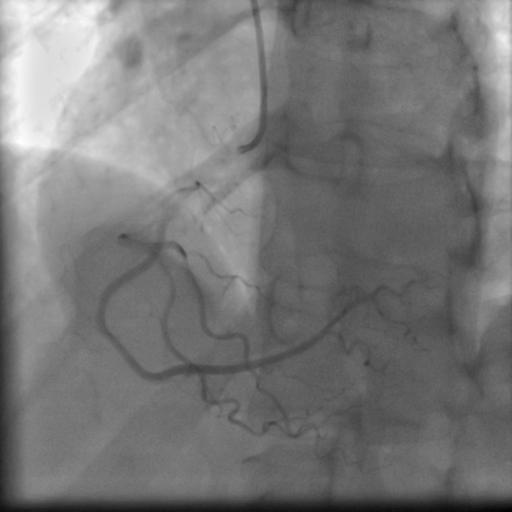Stenosis: (110, 323, 137, 369)
